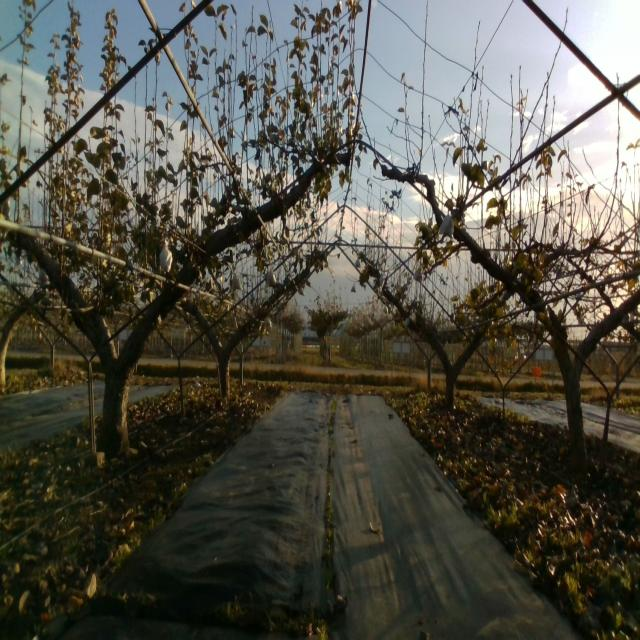pearbags: (158, 239, 173, 273), (438, 212, 455, 240), (229, 269, 245, 291), (265, 269, 278, 288)
